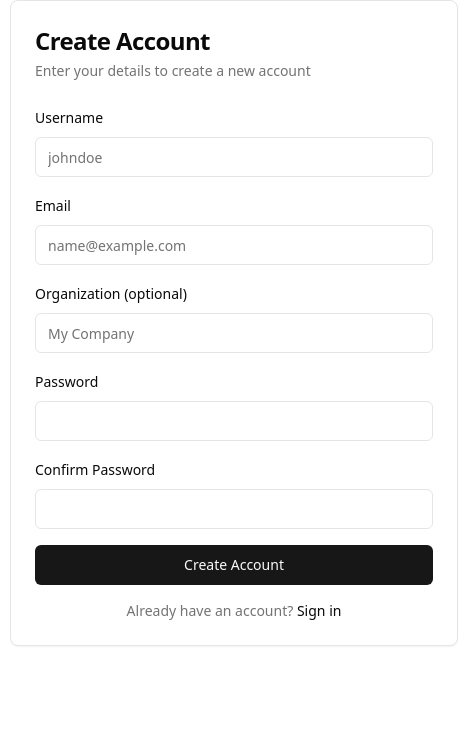
it: RegisterPage › should show password requirements
This screenshot has width=475, height=747.
Click the password field labelled "Password". click: (234, 421)
box: [35, 401, 433, 441]
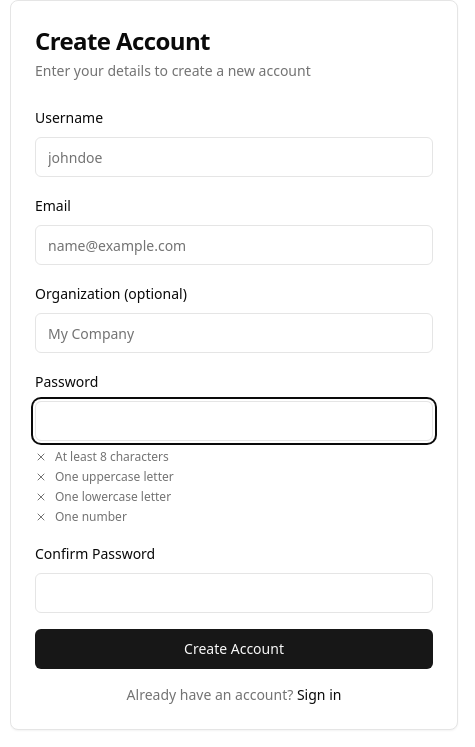
Result: the text "At least 8 characters" is shown at [55, 449, 169, 465]
Result: the text "One uppercase letter" is shown at [55, 469, 174, 485]
Result: the text "One lowercase letter" is shown at [55, 489, 171, 505]
